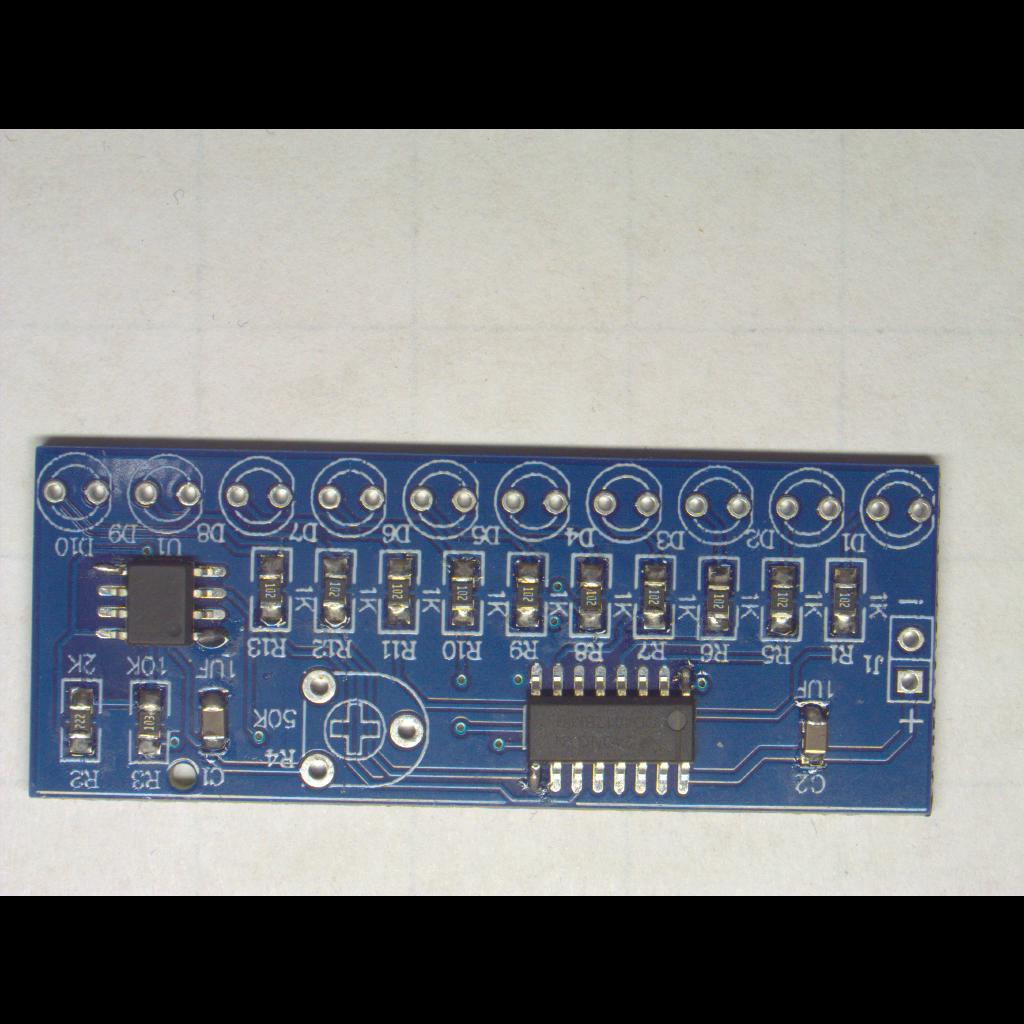OK: (521, 656, 703, 802), (86, 551, 236, 653), (126, 678, 176, 768), (694, 553, 744, 641), (504, 550, 552, 638), (249, 546, 295, 636), (311, 546, 357, 636), (760, 555, 806, 645), (59, 676, 105, 766), (567, 550, 613, 638), (824, 556, 868, 644), (441, 547, 485, 635), (634, 552, 678, 640), (378, 549, 422, 635), (794, 698, 834, 770), (198, 688, 230, 752)
